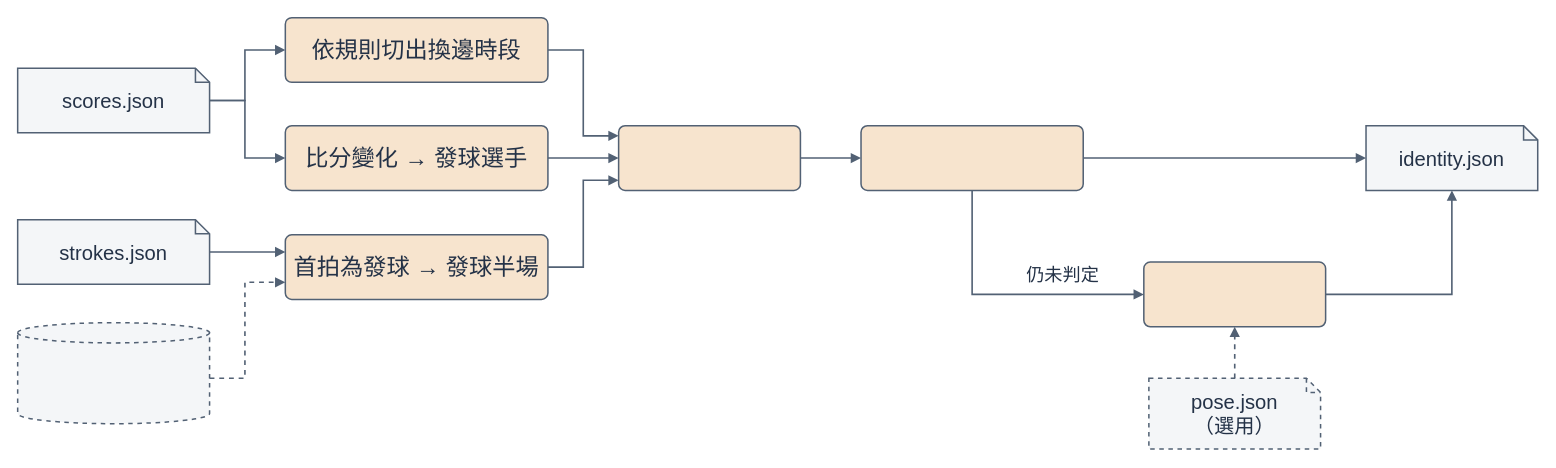
Some shapes in this 1556 by 468 pixel diagram are drawn without their labels. Here are the shapes that lost their labels. From the top down, the centre of each, then its label:
At (709,158): "逐時段投票".
At (972,158): "依計分板慣例補齊".
At (1234,294): "球衣色彩比對".
At (113,372): "逐幀球種 機率快取（選用）".
